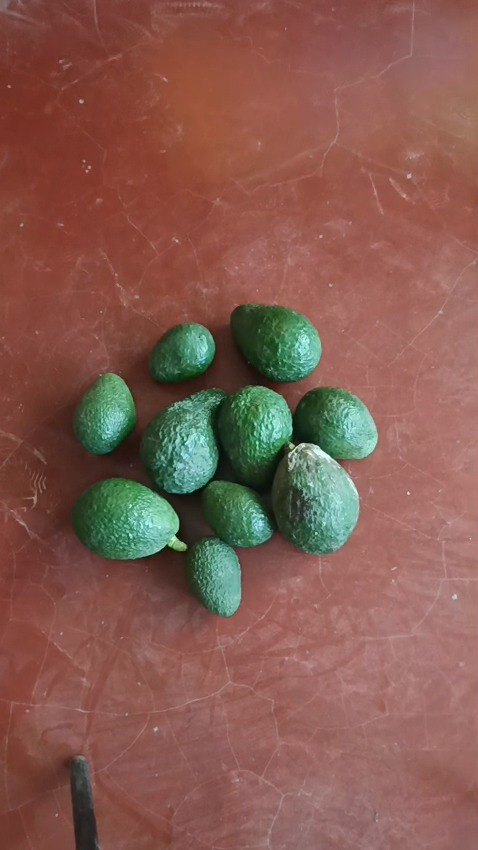Primera: (269, 443, 360, 553), (70, 476, 181, 559), (139, 389, 226, 494), (215, 385, 293, 489), (229, 302, 320, 381)
Segunda: (293, 386, 379, 460), (72, 372, 137, 455)
Tercera: (201, 480, 275, 548), (183, 536, 242, 614), (148, 323, 215, 383)
